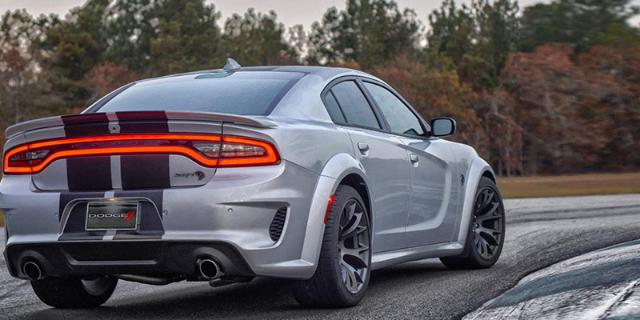dodge: (1, 58, 506, 308)
